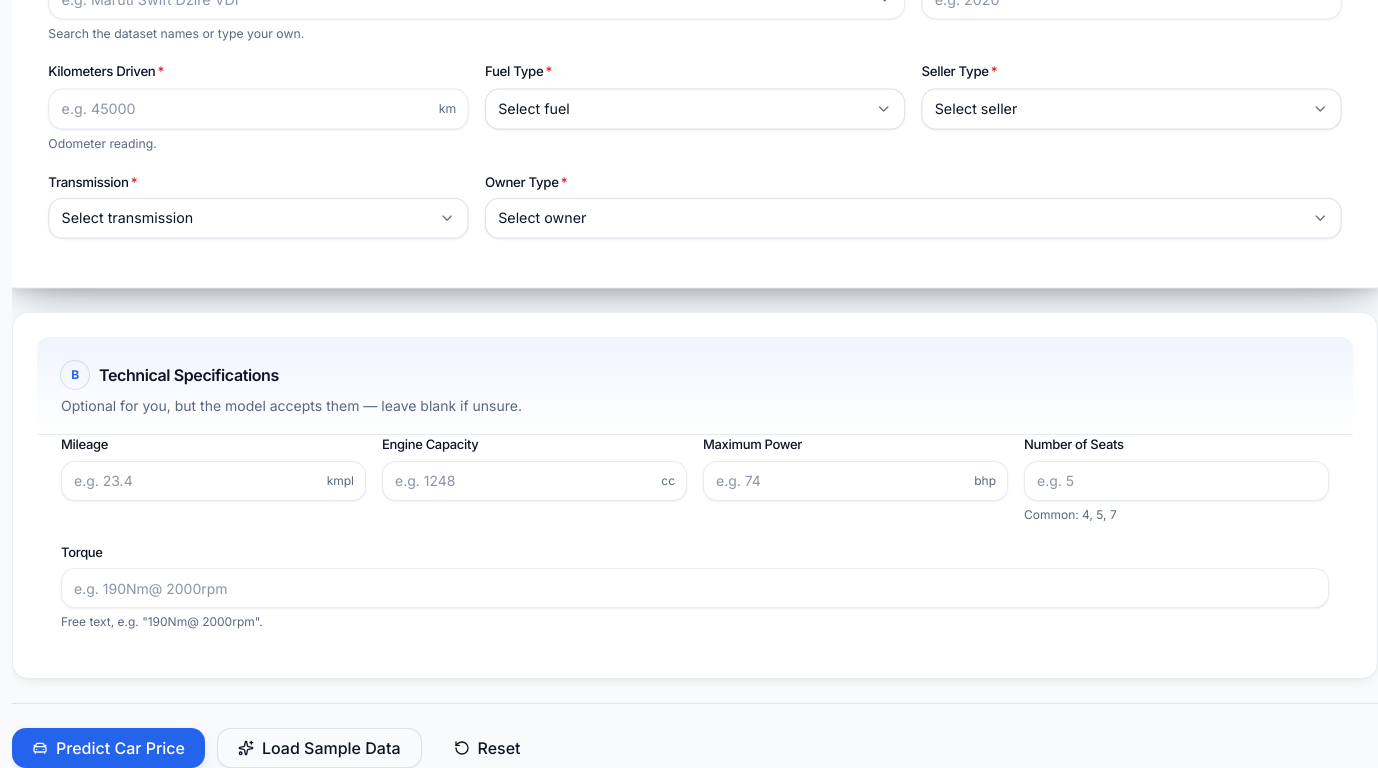
Test: form validation › shows server-side field errors from a 422 response
(page scrolled)
Click the button "Load Sample Data".
click(319, 748)  # box [217,728,422,767]
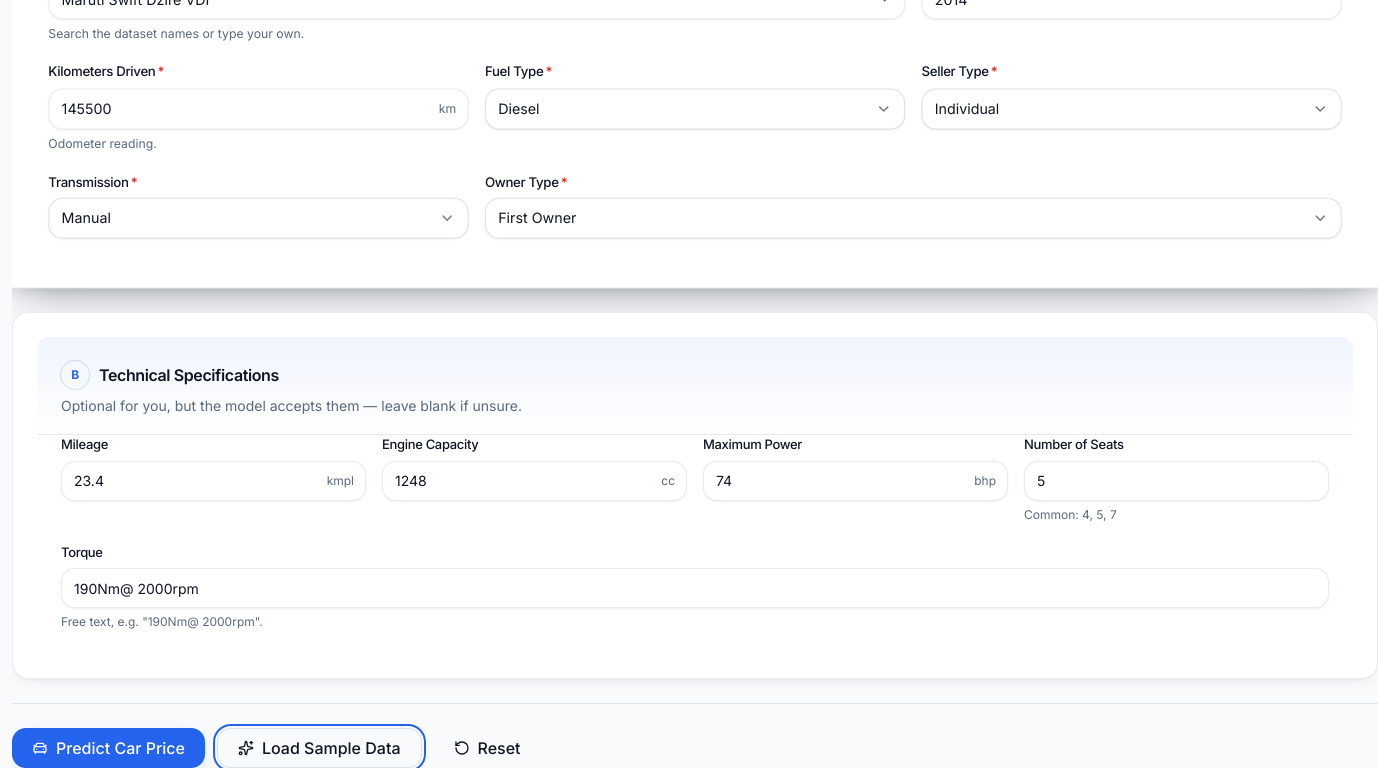
Click the button "Predict Car Price".
click(108, 748)  # box [12,728,205,767]
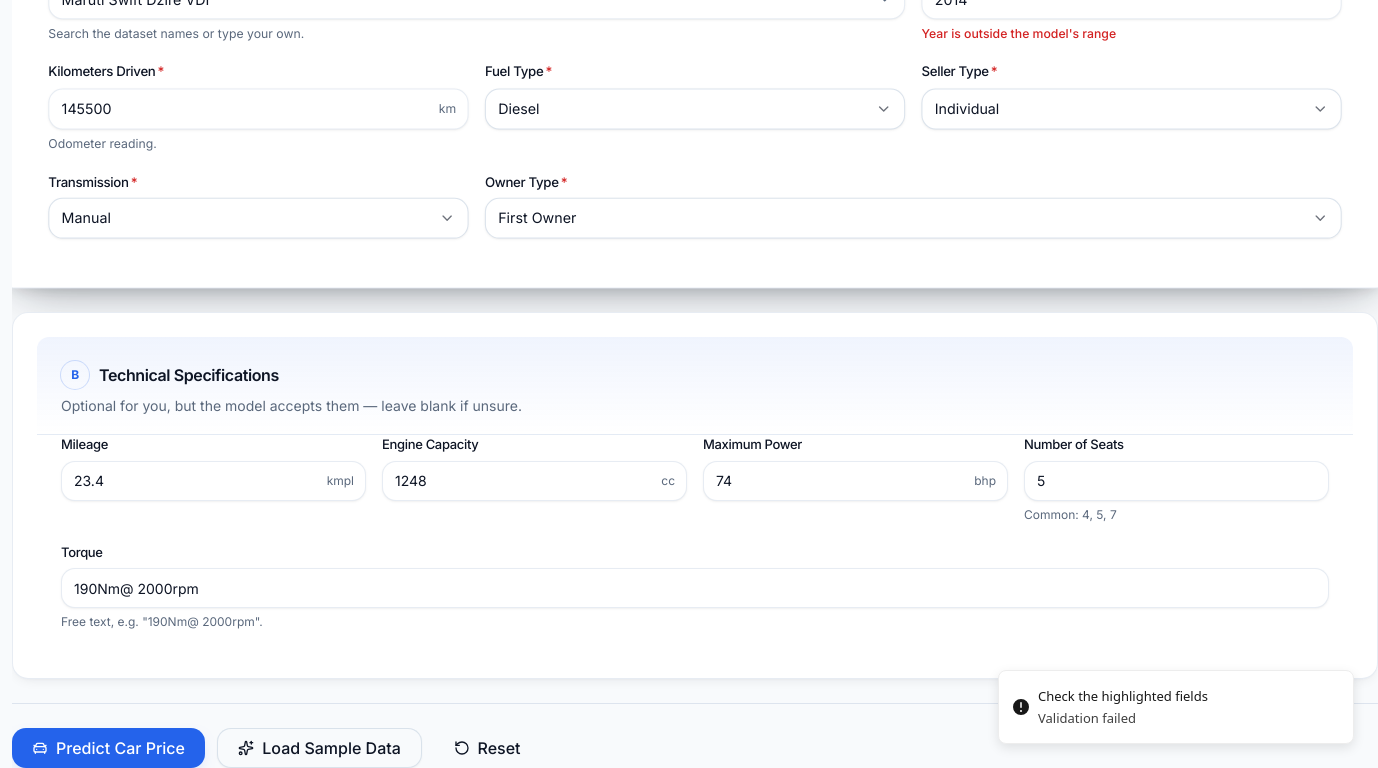
Check: the text "Year is outside the model's range" is shown, box [921,26,1116,41]
